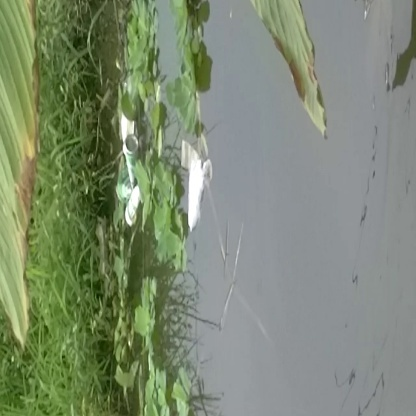bottle: (113, 133, 145, 201)
